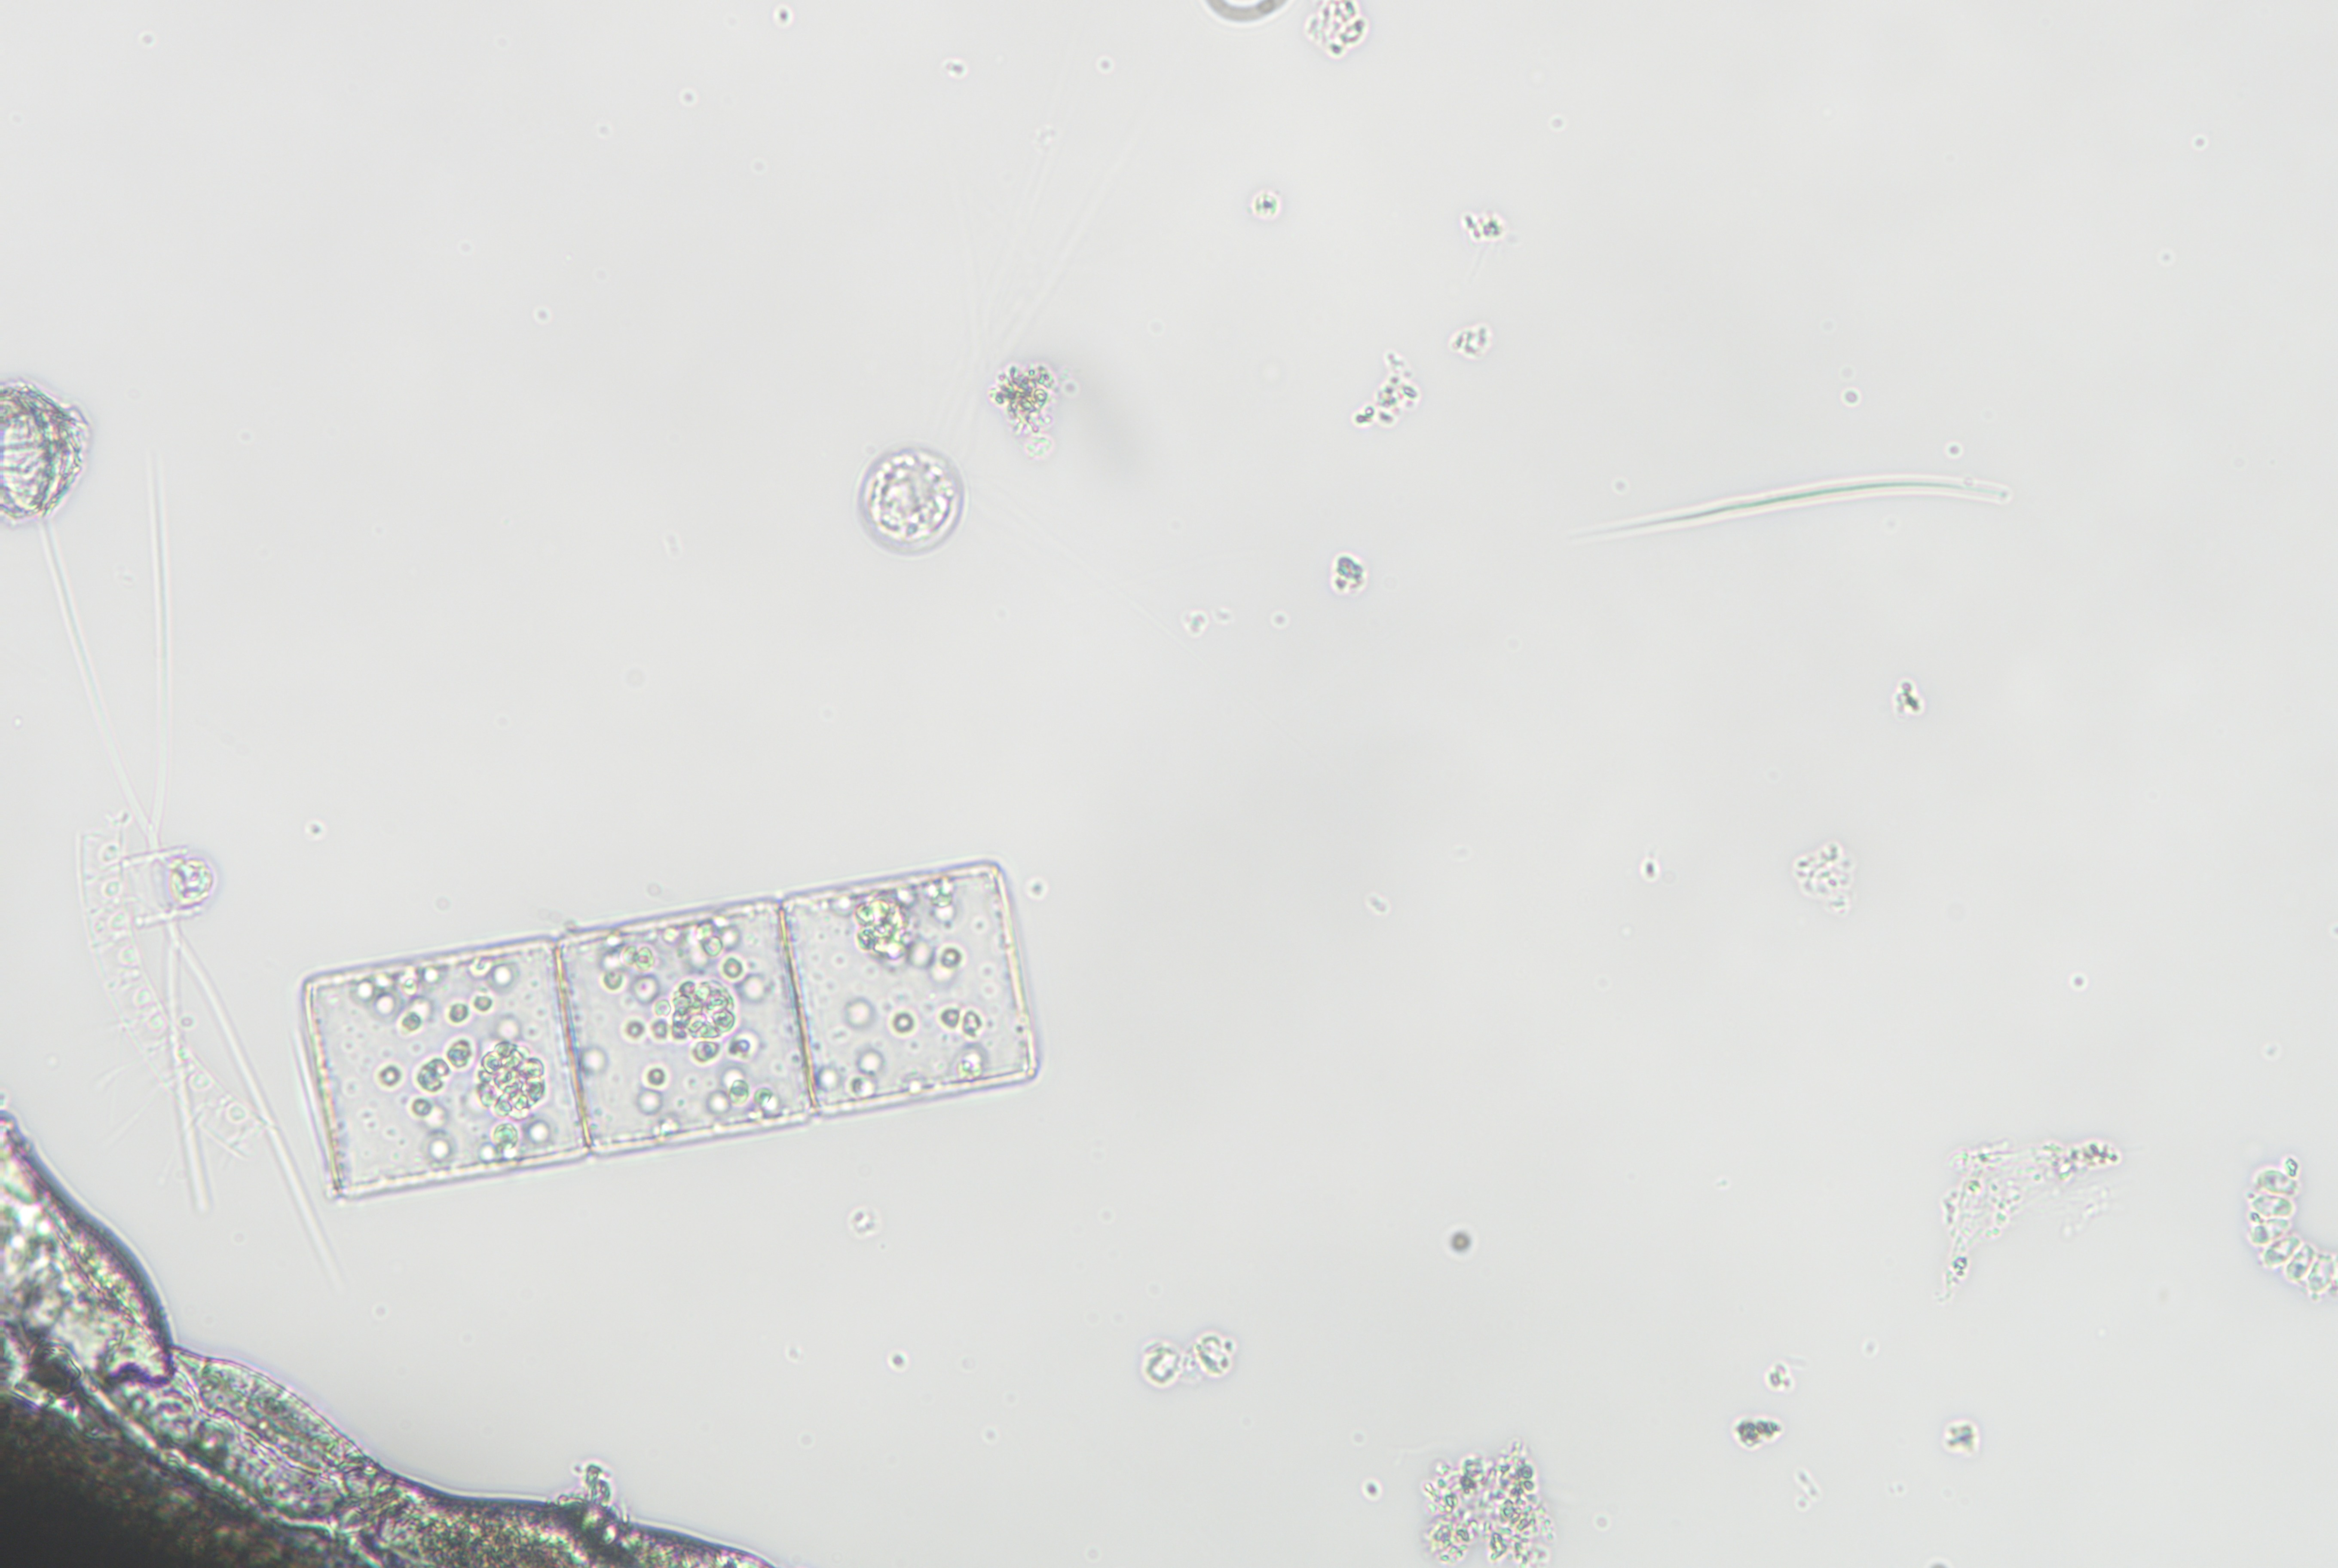chaetoceros: (30, 458, 362, 1258)
guinardia flaccida: (287, 850, 1108, 1213)
